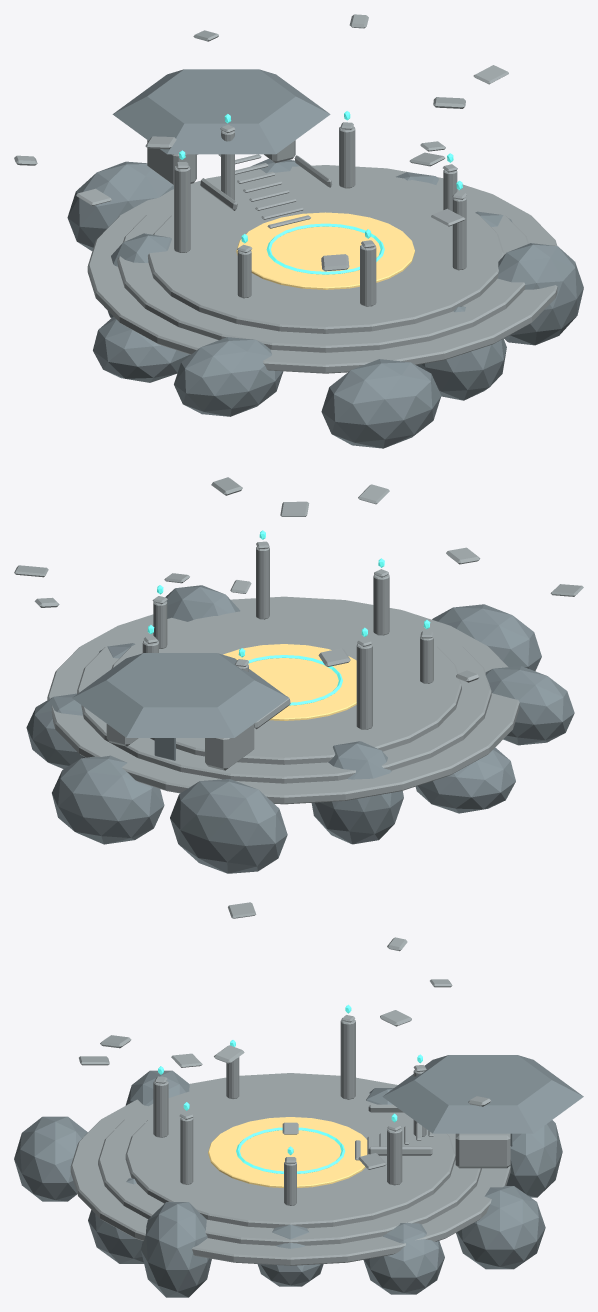
File: cloud-ruins-low.glb
3 views of the same model, one above another, from view 1: azimuth 30°, elevation 25°; view 2: azimuth 150°, elevation 25°; view 3: azimuth 270°, elevation 25° (orthographic). The views are drawn at different scales.
Visible parts, largest first — view 1: CloudTemple, LandingPad, RunePillars, FloatingSlabs, TempleSteps; view 2: CloudTemple, LandingPad, RunePillars, FloatingSlabs; view 3: CloudTemple, LandingPad, RunePillars, FloatingSlabs, TempleSteps.
Boxes of the visible parts, bbox=[...] form: CloudTemple: bbox=[67, 69, 583, 448]; LandingPad: bbox=[236, 212, 414, 289]; RunePillars: bbox=[174, 111, 466, 306]; FloatingSlabs: bbox=[14, 14, 508, 271]; TempleSteps: bbox=[200, 154, 332, 228]; CloudTemple: bbox=[26, 585, 574, 873]; LandingPad: bbox=[223, 644, 356, 720]; RunePillars: bbox=[142, 530, 433, 729]; FloatingSlabs: bbox=[14, 477, 583, 682]; CloudTemple: bbox=[14, 1055, 583, 1297]; LandingPad: bbox=[208, 1117, 367, 1187]; RunePillars: bbox=[153, 1004, 426, 1205]; FloatingSlabs: bbox=[79, 902, 490, 1169]; TempleSteps: bbox=[355, 1104, 433, 1160].
Size of the model in its own units: 116 by 58.43 by 124.
